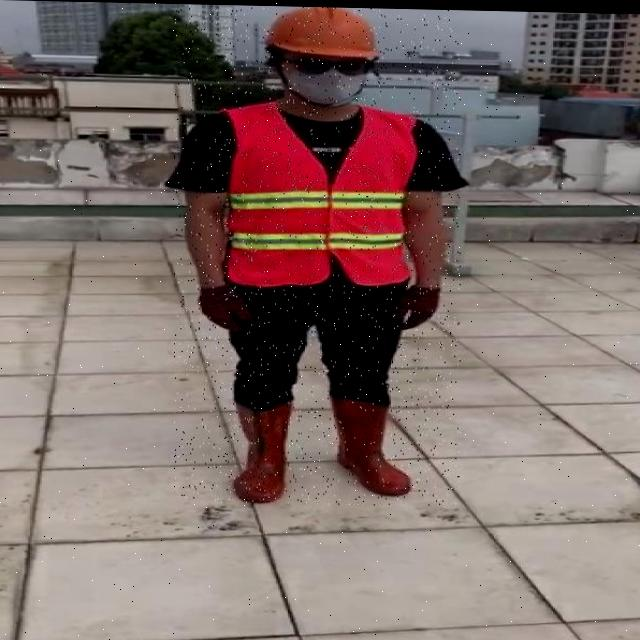Gloves: (200, 283, 255, 330), (397, 281, 442, 328)
Helmet: (264, 5, 381, 59)
Safety-Boot: (333, 393, 412, 494), (234, 397, 292, 502)
Safety-Vest: (221, 96, 420, 290)
